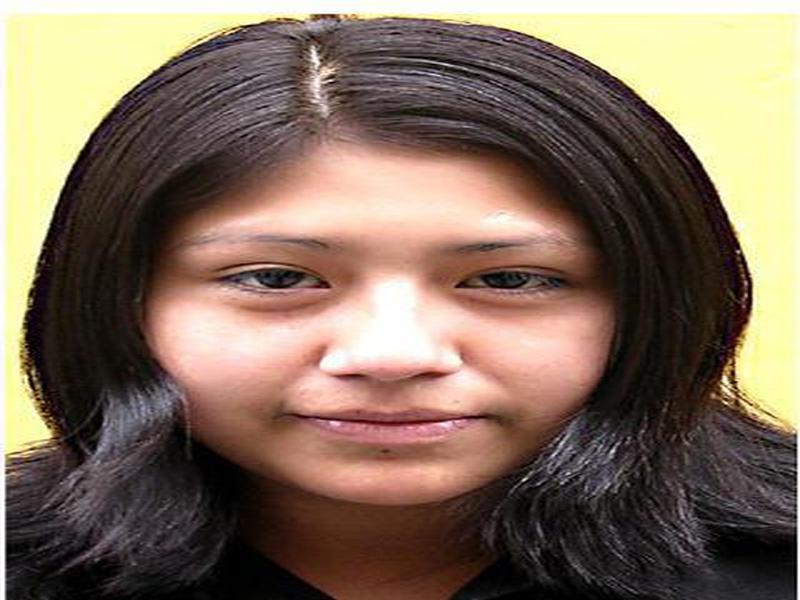without_mask: (142, 184, 602, 510)
